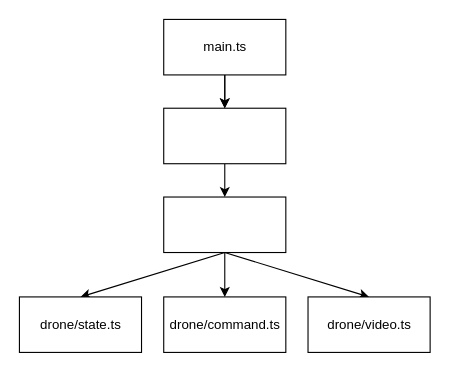
The diagram is 450 pixels wide and 372 high, and some of its shapes have lost their labels. Here are the shapes that lost their labels. From the top down, the centre of each, then its label:
At pixel 224 135: "utils/socket.ts".
At pixel 224 224: "drone/index.ts".
